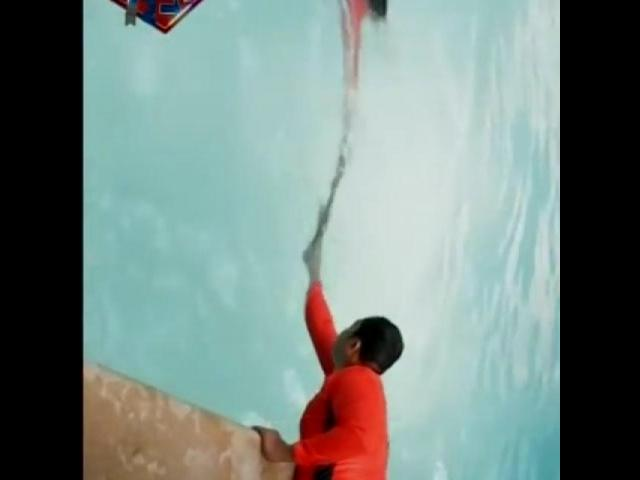drowning: (308, 0, 413, 43)
out of water: (260, 288, 417, 480)
